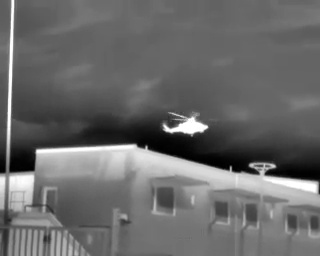HELICOPTER: (160, 106, 218, 143)
